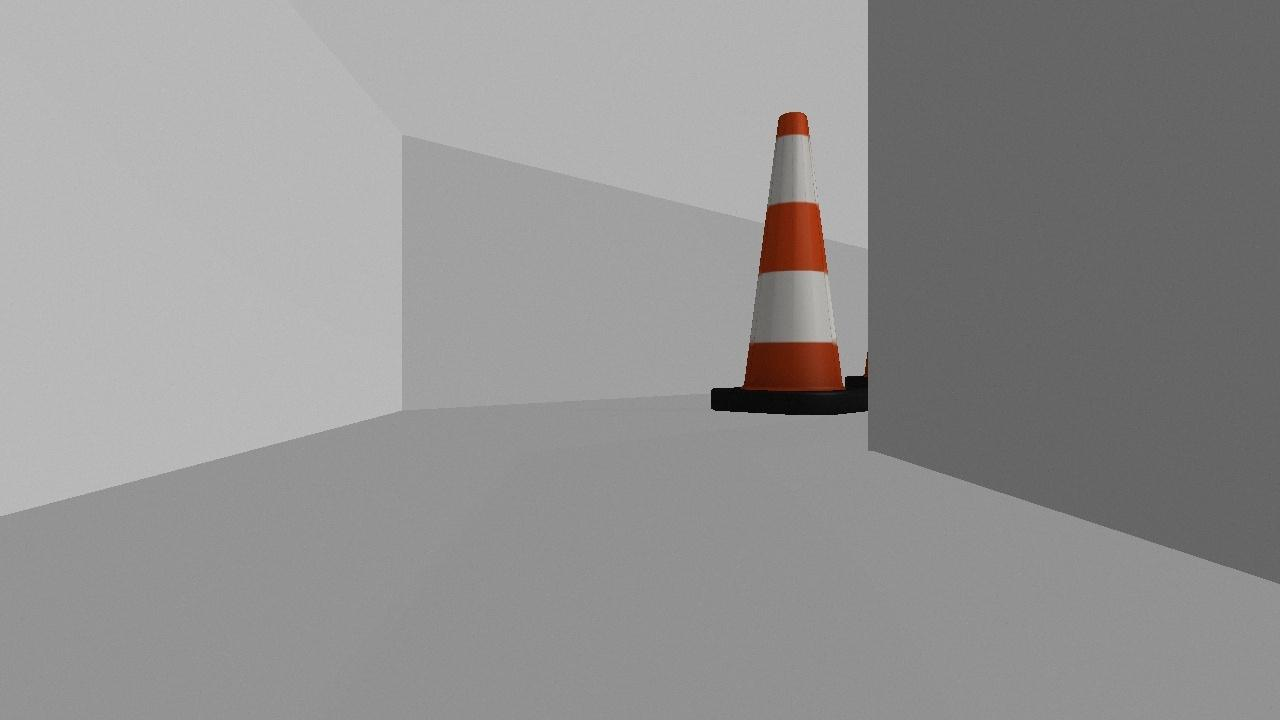cone_barrel: (707, 110, 866, 413)
